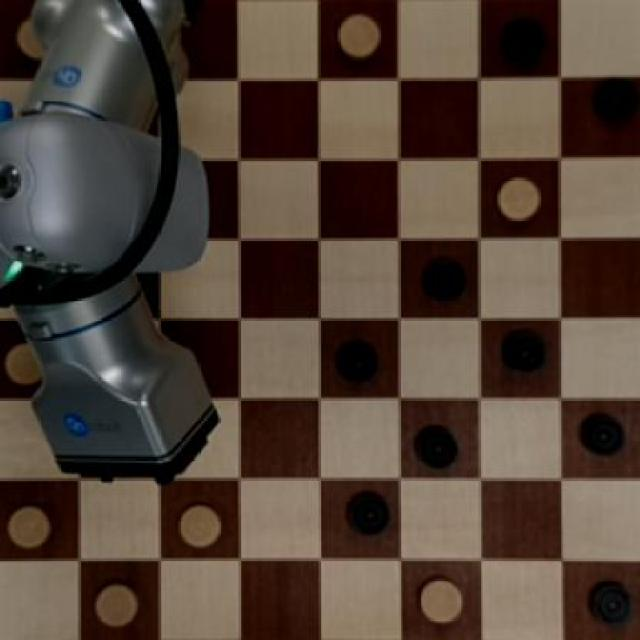black: (409, 417, 466, 479), (334, 488, 394, 546), (583, 72, 640, 133), (335, 328, 384, 388), (574, 409, 629, 462), (578, 573, 632, 625), (494, 326, 547, 378), (411, 254, 467, 303), (500, 7, 543, 59)
white: (490, 172, 548, 232), (3, 499, 62, 552), (174, 502, 229, 557), (335, 7, 387, 65), (413, 574, 472, 624), (88, 572, 138, 624)
